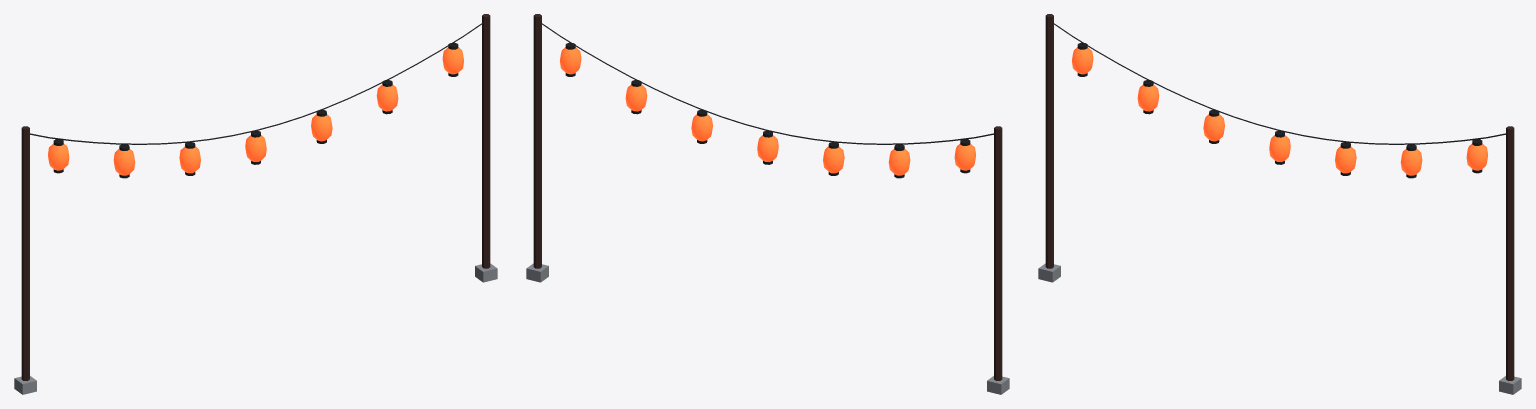
File: lantern_string.glb
The picture shows the model from 3 angles, left to right: view 1: azimuth 30°, elevation 25°; view 2: azimuth 150°, elevation 25°; view 3: azimuth 330°, elevation 25°; orthographic projection.
Parts seen in each view (by area): view 1: lantern_string; view 2: lantern_string; view 3: lantern_string.
Part boxes in pixels (<box>): lantern_string: <box>14,14,497,394</box>; lantern_string: <box>526,14,1009,394</box>; lantern_string: <box>1038,14,1521,394</box>.
Bounding box in the file's own units: 9.28 × 4.9 × 0.38.
